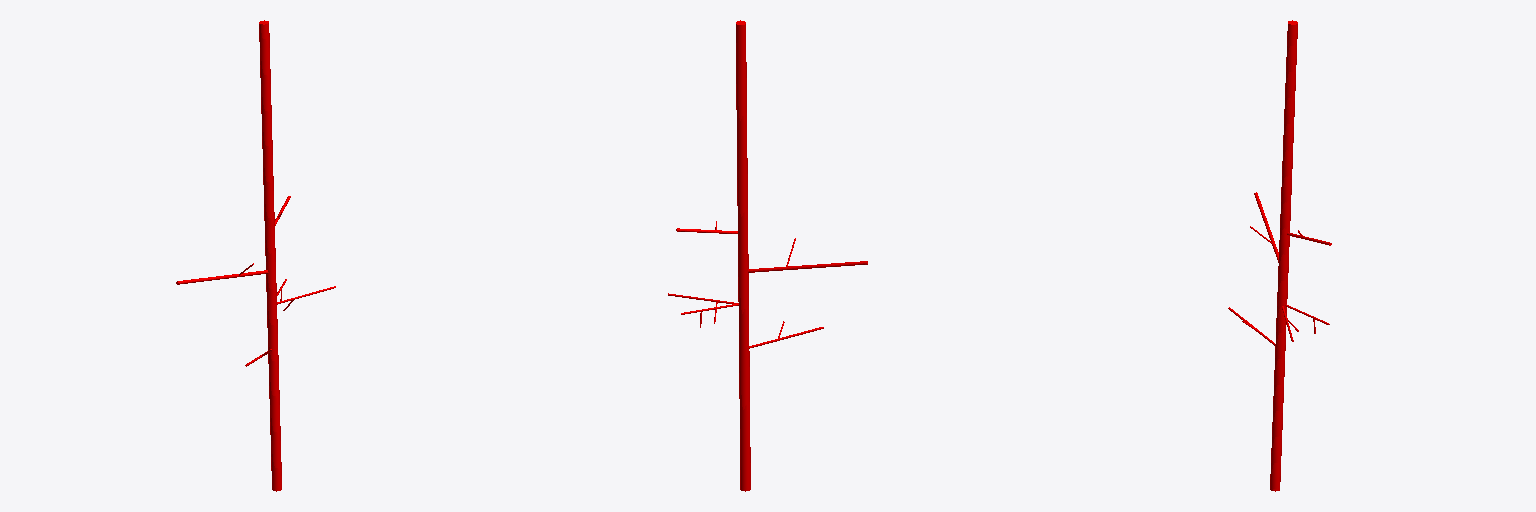
robot.urdf — tree_55.urdf:
<?xml version='1.0' encoding='UTF-8'?>
<robot name="tree_55.urdf">
  <link name="branch_0">
    <inertial>
      <origin xyz="0.0 0.0 0.0" rpy="0.0 -0.0 0.0"/>
      <mass value="0.1"/>
      <inertia ixx="0.001" ixy="0.0" ixz="0.0" iyy="0.001" iyz="0.0" izz="0.001"/>
    </inertial>
    <visual name="branch_0_visual">
      <geometry>
        <cylinder radius="0.06536725070712807" length="6.502613261164226"/>
      </geometry>
      <material name="semantic_material"/>
      <origin xyz="-0.03082354864206315 0.11348428323186414 3.24917928596987" rpy="0.0 0.03617667428455134 1.836008835031546"/>
    </visual>
    <collision name="branch_0_collision">
      <geometry>
        <cylinder radius="0.06536725070712807" length="6.502613261164226"/>
      </geometry>
      <origin xyz="-0.03082354864206315 0.11348428323186414 3.24917928596987" rpy="0.0 0.03617667428455134 1.836008835031546"/>
    </collision>
  </link>
  <link name="branch_1">
    <inertial>
      <origin xyz="0.0 0.0 0.0" rpy="0.0 -0.0 0.0"/>
      <mass value="0.1"/>
      <inertia ixx="0.001" ixy="0.0" ixz="0.0" iyy="0.001" iyz="0.0" izz="0.001"/>
    </inertial>
    <visual name="branch_1_visual">
      <geometry>
        <cylinder radius="0.02277686203956537" length="1.6575123408333121"/>
      </geometry>
      <material name="semantic_material"/>
      <origin xyz="0.0 0.0 0.0" rpy="0.0 -0.0 0.0"/>
    </visual>
    <collision name="branch_1_collision">
      <geometry>
        <cylinder radius="0.02277686203956537" length="1.6575123408333121"/>
      </geometry>
      <origin xyz="0.0 0.0 0.0" rpy="0.0 -0.0 0.0"/>
    </collision>
  </link>
  <link name="branch_2">
    <inertial>
      <origin xyz="0.0 0.0 0.0" rpy="0.0 -0.0 0.0"/>
      <mass value="0.1"/>
      <inertia ixx="0.001" ixy="0.0" ixz="0.0" iyy="0.001" iyz="0.0" izz="0.001"/>
    </inertial>
    <visual name="branch_2_visual">
      <geometry>
        <cylinder radius="0.01" length="0.4119341165195671"/>
      </geometry>
      <material name="semantic_material"/>
      <origin xyz="0.0 0.0 0.0" rpy="0.0 -0.0 0.0"/>
    </visual>
    <collision name="branch_2_collision">
      <geometry>
        <cylinder radius="0.01" length="0.4119341165195671"/>
      </geometry>
      <origin xyz="0.0 0.0 0.0" rpy="0.0 -0.0 0.0"/>
    </collision>
  </link>
  <link name="branch_3">
    <inertial>
      <origin xyz="0.0 0.0 0.0" rpy="0.0 -0.0 0.0"/>
      <mass value="0.1"/>
      <inertia ixx="0.001" ixy="0.0" ixz="0.0" iyy="0.001" iyz="0.0" izz="0.001"/>
    </inertial>
    <visual name="branch_3_visual">
      <geometry>
        <cylinder radius="0.013310936993752588" length="0.812195168459285"/>
      </geometry>
      <material name="semantic_material"/>
      <origin xyz="0.0 0.0 0.0" rpy="0.0 -0.0 0.0"/>
    </visual>
    <collision name="branch_3_collision">
      <geometry>
        <cylinder radius="0.013310936993752588" length="0.812195168459285"/>
      </geometry>
      <origin xyz="0.0 0.0 0.0" rpy="0.0 -0.0 0.0"/>
    </collision>
  </link>
  <link name="branch_4">
    <inertial>
      <origin xyz="0.0 0.0 0.0" rpy="0.0 -0.0 0.0"/>
      <mass value="0.1"/>
      <inertia ixx="0.001" ixy="0.0" ixz="0.0" iyy="0.001" iyz="0.0" izz="0.001"/>
    </inertial>
    <visual name="branch_4_visual">
      <geometry>
        <cylinder radius="0.01" length="0.22554310869803237"/>
      </geometry>
      <material name="semantic_material"/>
      <origin xyz="0.0 0.0 0.0" rpy="0.0 -0.0 0.0"/>
    </visual>
    <collision name="branch_4_collision">
      <geometry>
        <cylinder radius="0.01" length="0.22554310869803237"/>
      </geometry>
      <origin xyz="0.0 0.0 0.0" rpy="0.0 -0.0 0.0"/>
    </collision>
  </link>
  <link name="branch_5">
    <inertial>
      <origin xyz="0.0 0.0 0.0" rpy="0.0 -0.0 0.0"/>
      <mass value="0.1"/>
      <inertia ixx="0.001" ixy="0.0" ixz="0.0" iyy="0.001" iyz="0.0" izz="0.001"/>
    </inertial>
    <visual name="branch_5_visual">
      <geometry>
        <cylinder radius="0.019757815386213767" length="0.8567859136791001"/>
      </geometry>
      <material name="semantic_material"/>
      <origin xyz="0.0 0.0 0.0" rpy="0.0 -0.0 0.0"/>
    </visual>
    <collision name="branch_5_collision">
      <geometry>
        <cylinder radius="0.019757815386213767" length="0.8567859136791001"/>
      </geometry>
      <origin xyz="0.0 0.0 0.0" rpy="0.0 -0.0 0.0"/>
    </collision>
  </link>
  <link name="branch_6">
    <inertial>
      <origin xyz="0.0 0.0 0.0" rpy="0.0 -0.0 0.0"/>
      <mass value="0.1"/>
      <inertia ixx="0.001" ixy="0.0" ixz="0.0" iyy="0.001" iyz="0.0" izz="0.001"/>
    </inertial>
    <visual name="branch_6_visual">
      <geometry>
        <cylinder radius="0.01" length="0.12861906402710763"/>
      </geometry>
      <material name="semantic_material"/>
      <origin xyz="0.0 0.0 0.0" rpy="0.0 -0.0 0.0"/>
    </visual>
    <collision name="branch_6_collision">
      <geometry>
        <cylinder radius="0.01" length="0.12861906402710763"/>
      </geometry>
      <origin xyz="0.0 0.0 0.0" rpy="0.0 -0.0 0.0"/>
    </collision>
  </link>
  <link name="branch_7">
    <inertial>
      <origin xyz="0.0 0.0 0.0" rpy="0.0 -0.0 0.0"/>
      <mass value="0.1"/>
      <inertia ixx="0.001" ixy="0.0" ixz="0.0" iyy="0.001" iyz="0.0" izz="0.001"/>
    </inertial>
    <visual name="branch_7_visual">
      <geometry>
        <cylinder radius="0.01367818813376583" length="1.0197669030506766"/>
      </geometry>
      <material name="semantic_material"/>
      <origin xyz="0.0 0.0 0.0" rpy="0.0 -0.0 0.0"/>
    </visual>
    <collision name="branch_7_collision">
      <geometry>
        <cylinder radius="0.01367818813376583" length="1.0197669030506766"/>
      </geometry>
      <origin xyz="0.0 0.0 0.0" rpy="0.0 -0.0 0.0"/>
    </collision>
  </link>
  <link name="branch_8">
    <inertial>
      <origin xyz="0.0 0.0 0.0" rpy="0.0 -0.0 0.0"/>
      <mass value="0.1"/>
      <inertia ixx="0.001" ixy="0.0" ixz="0.0" iyy="0.001" iyz="0.0" izz="0.001"/>
    </inertial>
    <visual name="branch_8_visual">
      <geometry>
        <cylinder radius="0.01" length="0.2831945539575694"/>
      </geometry>
      <material name="semantic_material"/>
      <origin xyz="0.0 0.0 0.0" rpy="0.0 -0.0 0.0"/>
    </visual>
    <collision name="branch_8_collision">
      <geometry>
        <cylinder radius="0.01" length="0.2831945539575694"/>
      </geometry>
      <origin xyz="0.0 0.0 0.0" rpy="0.0 -0.0 0.0"/>
    </collision>
  </link>
  <link name="branch_9">
    <inertial>
      <origin xyz="0.0 0.0 0.0" rpy="0.0 -0.0 0.0"/>
      <mass value="0.1"/>
      <inertia ixx="0.001" ixy="0.0" ixz="0.0" iyy="0.001" iyz="0.0" izz="0.001"/>
    </inertial>
    <visual name="branch_9_visual">
      <geometry>
        <cylinder radius="0.015345470215720513" length="1.0253267433983253"/>
      </geometry>
      <material name="semantic_material"/>
      <origin xyz="0.0 0.0 0.0" rpy="0.0 -0.0 0.0"/>
    </visual>
    <collision name="branch_9_collision">
      <geometry>
        <cylinder radius="0.015345470215720513" length="1.0253267433983253"/>
      </geometry>
      <origin xyz="0.0 0.0 0.0" rpy="0.0 -0.0 0.0"/>
    </collision>
  </link>
  <link name="branch_10">
    <inertial>
      <origin xyz="0.0 0.0 0.0" rpy="0.0 -0.0 0.0"/>
      <mass value="0.1"/>
      <inertia ixx="0.001" ixy="0.0" ixz="0.0" iyy="0.001" iyz="0.0" izz="0.001"/>
    </inertial>
    <visual name="branch_10_visual">
      <geometry>
        <cylinder radius="0.01" length="0.25892336149307754"/>
      </geometry>
      <material name="semantic_material"/>
      <origin xyz="0.0 0.0 0.0" rpy="0.0 -0.0 0.0"/>
    </visual>
    <collision name="branch_10_collision">
      <geometry>
        <cylinder radius="0.01" length="0.25892336149307754"/>
      </geometry>
      <origin xyz="0.0 0.0 0.0" rpy="0.0 -0.0 0.0"/>
    </collision>
  </link>
  <joint name="joint_0_1" type="fixed">
    <parent link="branch_0"/>
    <child link="branch_1"/>
    <axis xyz="1. 0. 0."/>
    <origin xyz="-0.8202013290229406 -0.06840443829425123 3.2075153781613452" rpy="0.17098332776130504 1.3567729055225874 -2.7498297038365056"/>
  </joint>
  <joint name="joint_0_3" type="fixed">
    <parent link="branch_0"/>
    <child link="branch_3"/>
    <axis xyz="1. 0. 0."/>
    <origin xyz="0.25220808606882616 0.38705599032008553 2.568754108136701" rpy="-2.485317507806754 1.52042866049142 -1.664375391596617"/>
  </joint>
  <joint name="joint_0_5" type="fixed">
    <parent link="branch_0"/>
    <child link="branch_5"/>
    <axis xyz="1. 0. 0."/>
    <origin xyz="0.2758303217008591 0.41323953647078737 3.6346406092301278" rpy="-0.20592385017338613 1.4132192616617354 0.5417185889773521"/>
  </joint>
  <joint name="joint_0_7" type="fixed">
    <parent link="branch_0"/>
    <child link="branch_7"/>
    <axis xyz="1. 0. 0."/>
    <origin xyz="0.4807302129733428 0.1566920086242464 2.5484439273658115" rpy="-2.3852698721824535 1.518525280466891 -2.2526970801288946"/>
  </joint>
  <joint name="joint_0_9" type="fixed">
    <parent link="branch_0"/>
    <child link="branch_9"/>
    <axis xyz="1. 0. 0."/>
    <origin xyz="-0.4019016449147989 -0.25550610672356117 2.059368587345921" rpy="0.15817540079018866 1.3617944916407971 -2.2786421864076614"/>
  </joint>
  <joint name="joint_1_2" type="fixed">
    <parent link="branch_0"/>
    <child link="branch_2"/>
    <axis xyz="1. 0. 0."/>
    <origin xyz="-0.5519875635370186 -0.16599097875987812 3.291137554650283" rpy="0.8368892751322912 0.08402742845057169 0.0719759581050417"/>
  </joint>
  <joint name="joint_3_4" type="fixed">
    <parent link="branch_0"/>
    <child link="branch_4"/>
    <axis xyz="1. 0. 0."/>
    <origin xyz="0.3521307118126757 0.5012447717071526 2.4505480977456195" rpy="3.098784540907839 0.06376585677174337 -2.325700049107881"/>
  </joint>
  <joint name="joint_5_6" type="fixed">
    <parent link="branch_0"/>
    <child link="branch_6"/>
    <axis xyz="1. 0. 0."/>
    <origin xyz="0.23297599932964674 0.326077669731867 3.6753625654842805" rpy="-0.5712662883426972 0.186950464445377 -2.4127012423285543"/>
  </joint>
  <joint name="joint_7_8" type="fixed">
    <parent link="branch_0"/>
    <child link="branch_8"/>
    <axis xyz="1. 0. 0."/>
    <origin xyz="0.3027707605314797 0.21826655893043256 2.4420167952817846" rpy="2.4939196860157358 -0.1194263313075626 -2.948263910113207"/>
  </joint>
  <joint name="joint_9_10" type="fixed">
    <parent link="branch_0"/>
    <child link="branch_10"/>
    <axis xyz="1. 0. 0."/>
    <origin xyz="-0.3295496052275733 -0.3082494248356059 2.1237622712131636" rpy="0.897324697366946 -0.1422433868004933 0.2669164480281791"/>
  </joint>
  <material name="semantic_material">
    <color rgba="1. 0. 0. 1."/>
  </material>
</robot>

--- Facts derived from the render (not from the file) ---
Views: 3 orthographic renders of the robot side by side, from view 1: azimuth 30°, elevation 25°; view 2: azimuth 150°, elevation 25°; view 3: azimuth 270°, elevation 25°.
Model tree_55.urdf with 11 links and 10 joints (10 fixed), rooted at branch_0, posed all joints at 0.
Visible links, largest first — view 1: branch_0; view 2: branch_0; view 3: branch_0.
Boxes of the visible links, x1=… form: branch_0: x1=259, y1=20, x2=281, y2=491; branch_0: x1=736, y1=20, x2=750, y2=491; branch_0: x1=1270, y1=20, x2=1297, y2=491.
Bounding box of the posed robot: 2.61 × 1.31 × 6.5 m (x, y, z).
Geometry: primitives only (box / cylinder / sphere), no mesh files.
